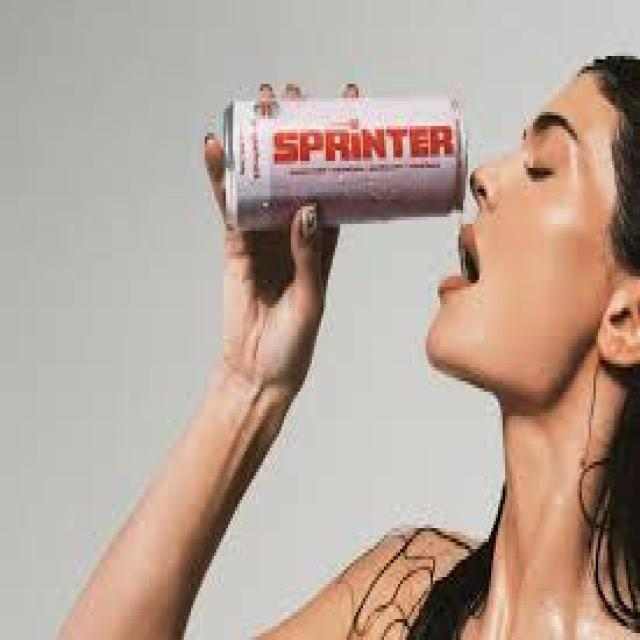Cans: (219, 88, 475, 235)
